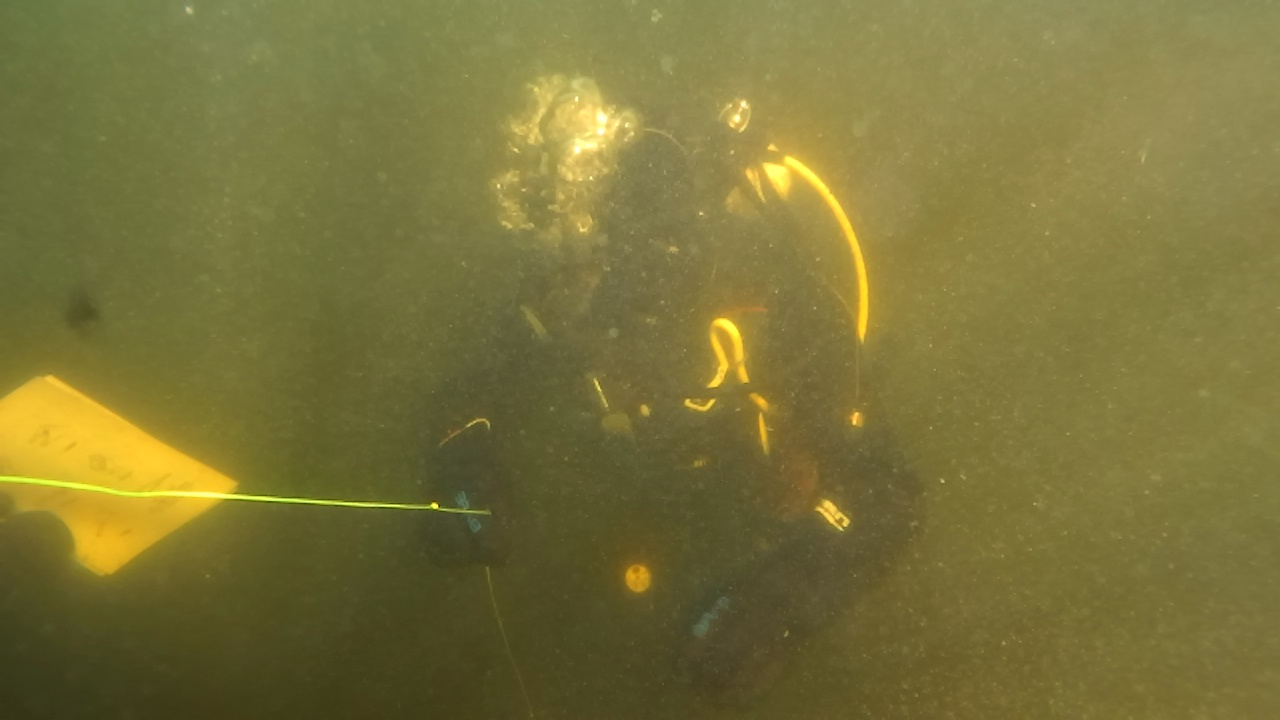Diver: (396, 100, 908, 698)
Hand: (402, 414, 536, 600), (632, 566, 802, 692)
